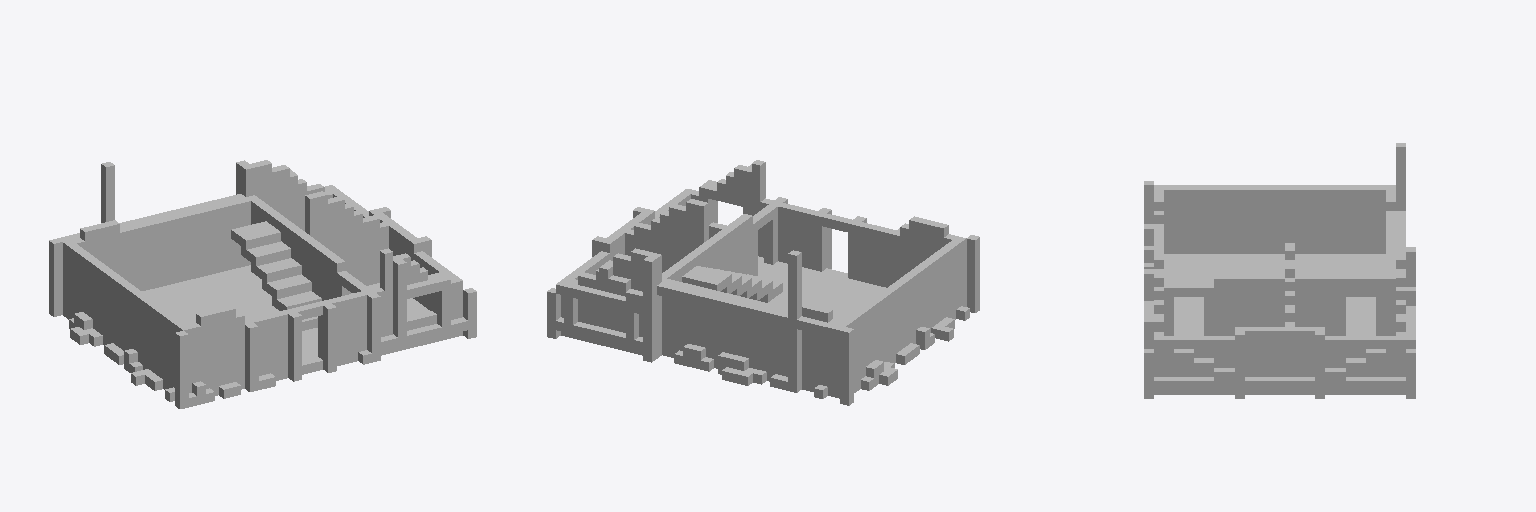
File: Farm House-7.obj
3 renders of one model, left to right at view 1: azimuth 30°, elevation 25°; view 2: azimuth 150°, elevation 25°; view 3: azimuth 270°, elevation 25°, orthographic.
Visible parts, largest first — view 1: object 1; view 2: object 1; view 3: object 1.
Part boxes in pixels (x1,y1,x2,y2): object 1: (49,160,476,408); object 1: (547,160,979,405); object 1: (1144,143,1415,398).
Size of the model in its own units: 3.5 by 1.5 by 2.7.